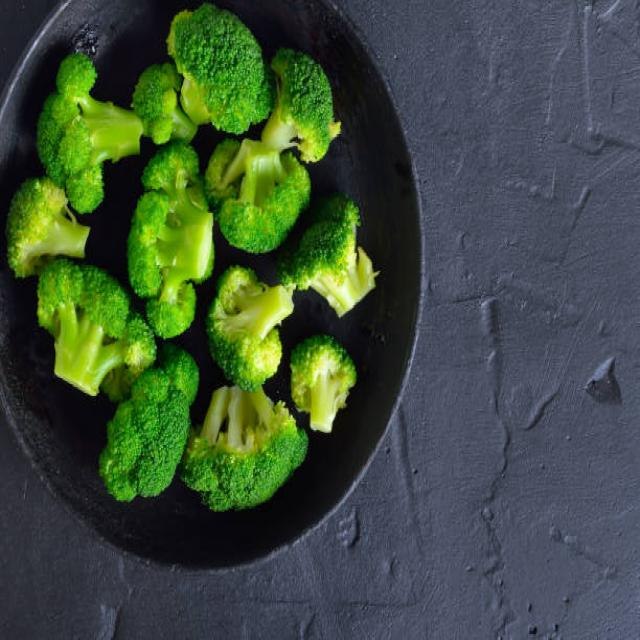Broccoli head: (37, 62, 180, 192), (164, 3, 272, 132), (37, 272, 135, 405), (99, 384, 182, 524), (303, 216, 390, 324), (143, 189, 210, 327), (214, 266, 303, 362), (199, 391, 286, 488), (8, 179, 108, 260), (287, 57, 357, 155), (293, 338, 362, 436), (232, 142, 292, 240)
